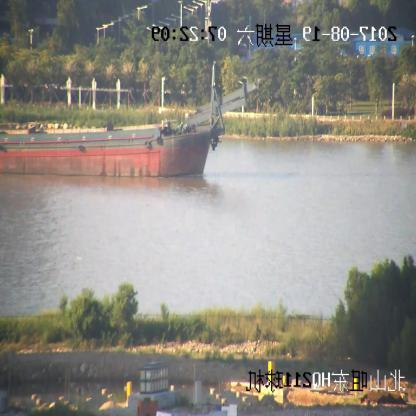Bulk Carrier: (0, 62, 257, 178)
